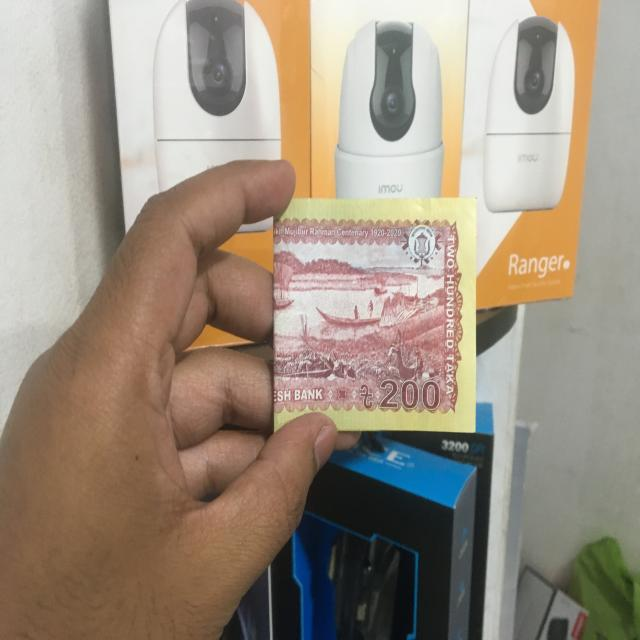Taka: (272, 191, 472, 433)
